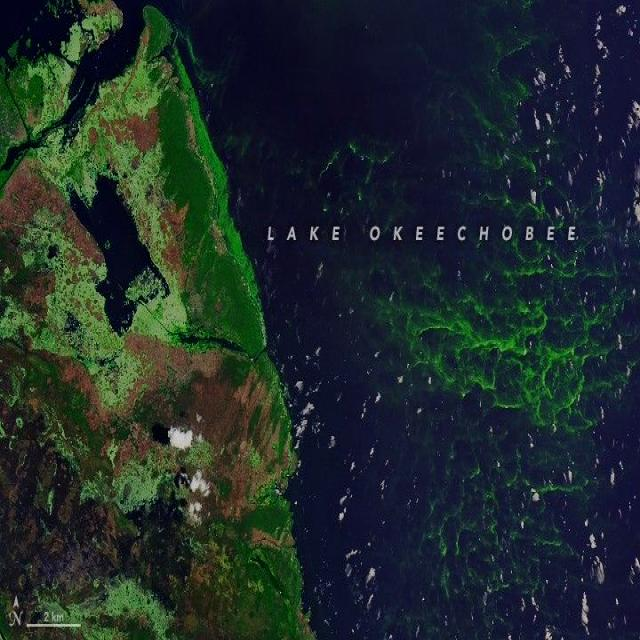algal: (275, 16, 638, 622)
